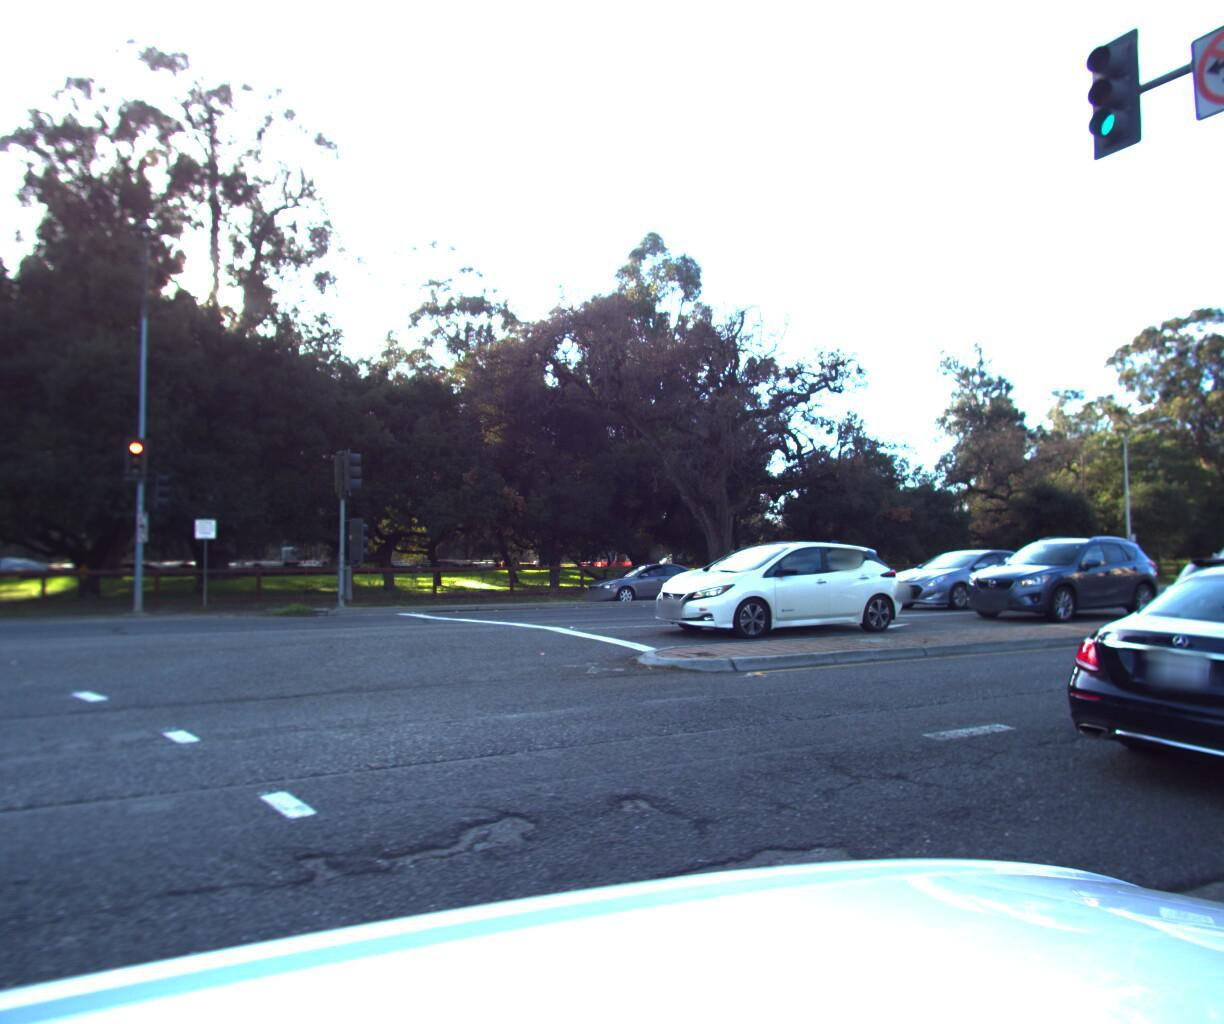car: (1028, 548, 1224, 841), (633, 534, 913, 642), (951, 530, 1167, 627), (1112, 540, 1224, 660), (873, 542, 1067, 607), (578, 559, 714, 604), (1180, 529, 1224, 609)
